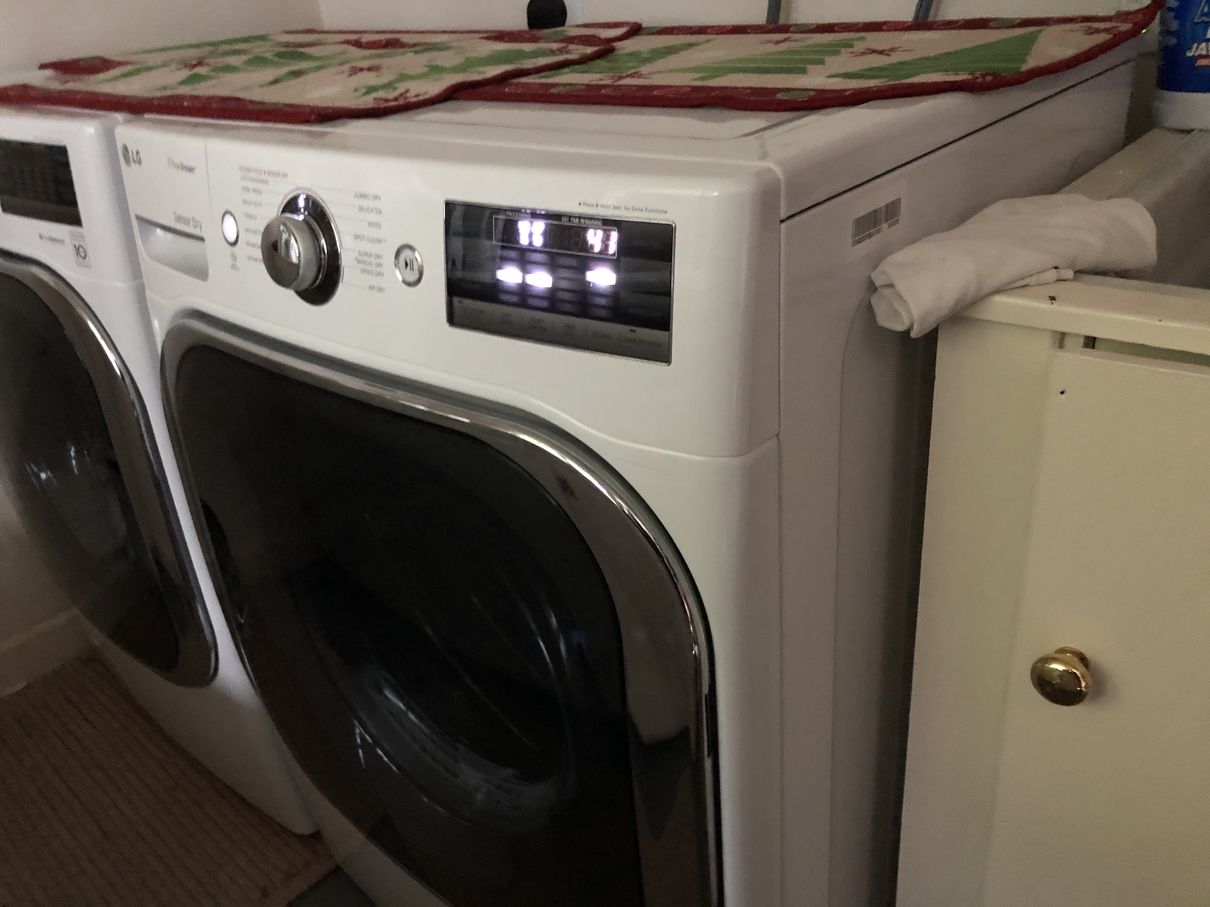status: (481, 205, 626, 267)
